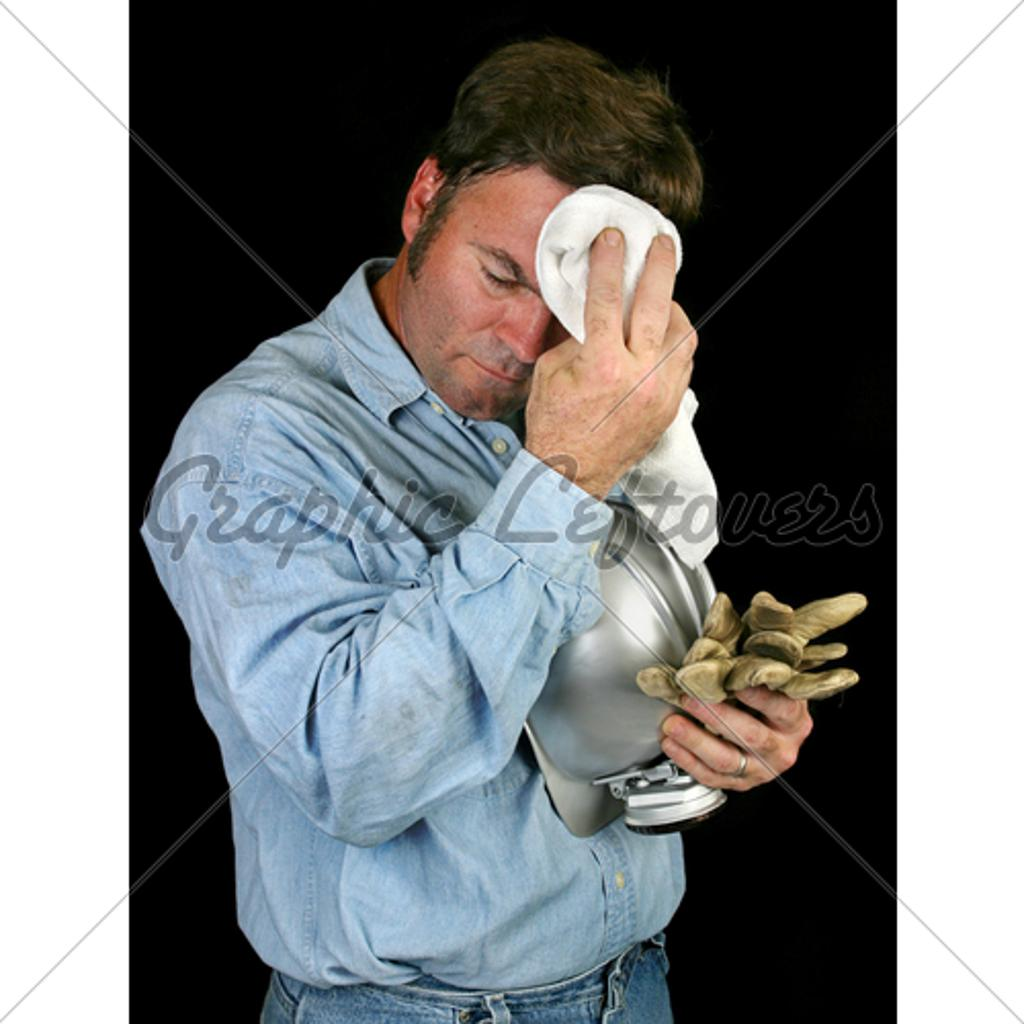face: (452, 180, 614, 416)
